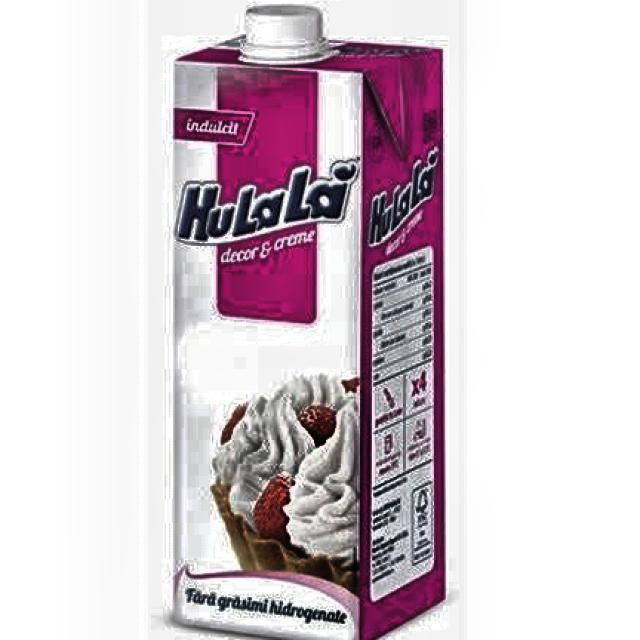cardboard: (169, 7, 446, 640)
